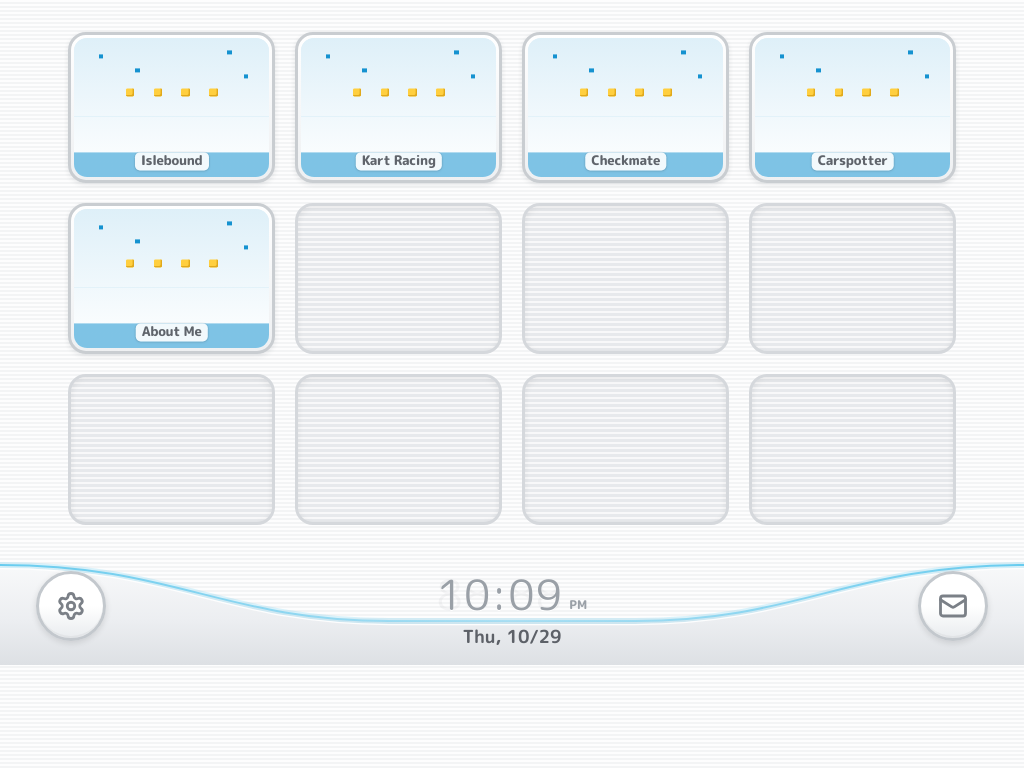
Scenario: WiiMenu › returns from the preview to the menu with the Menu button
Click the link "Carspotter": click(852, 108) [749,32,956,183]
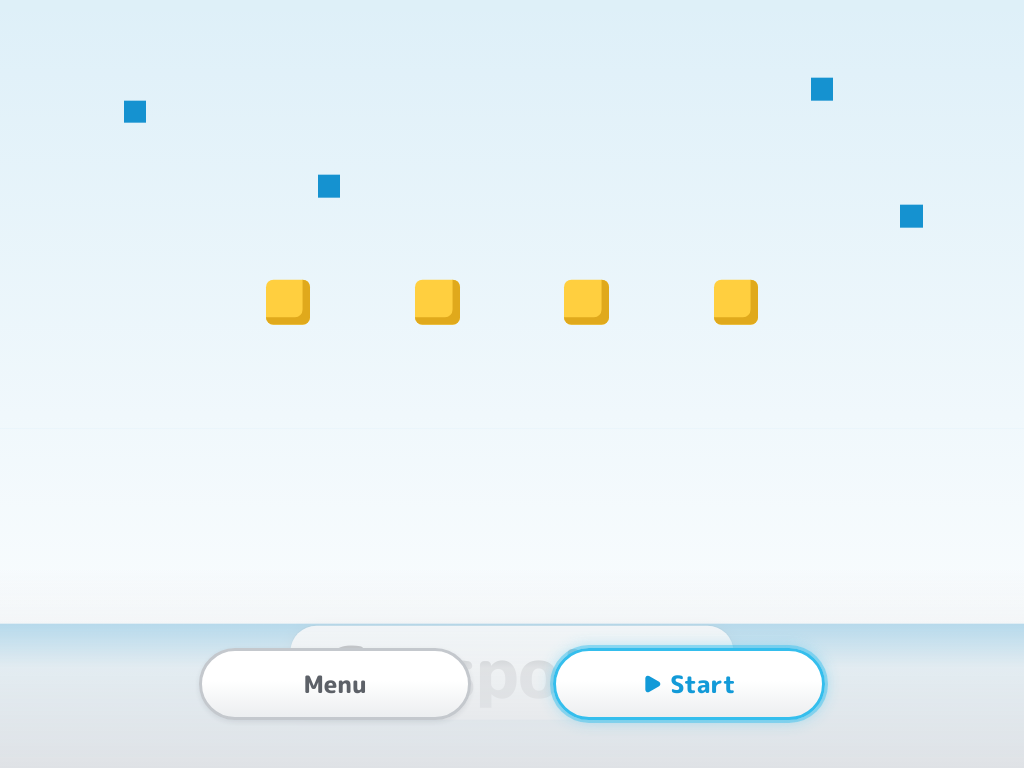
Click the button "Menu": click(335, 684) [199,648,471,720]
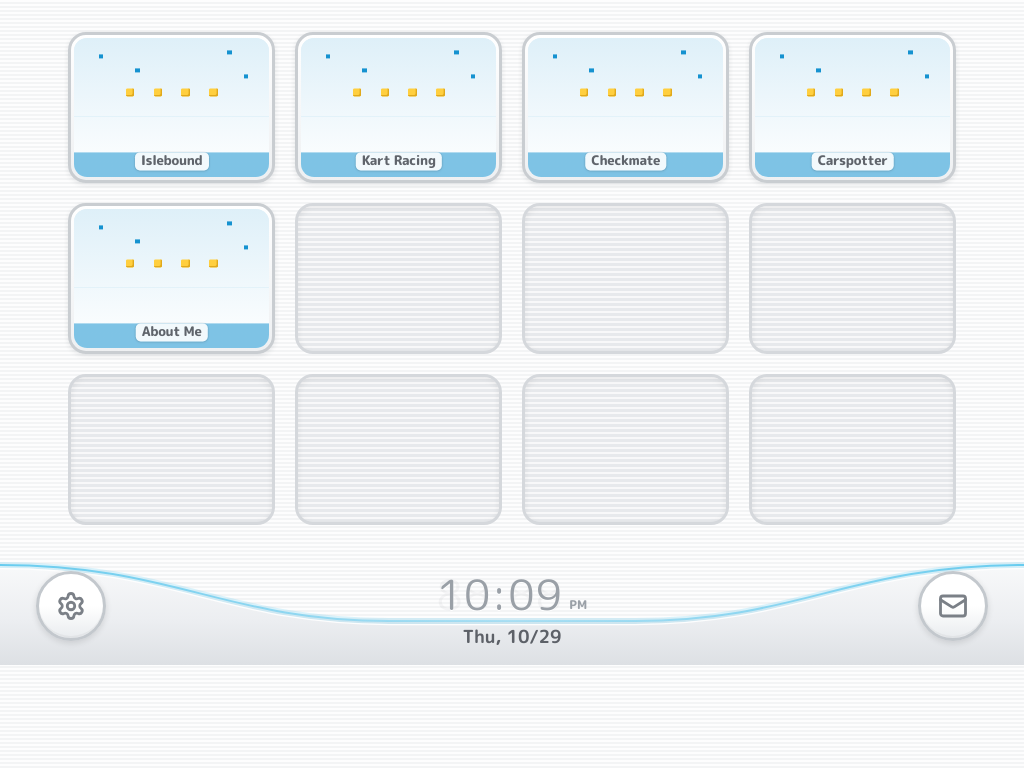
Now the dialog is gone
